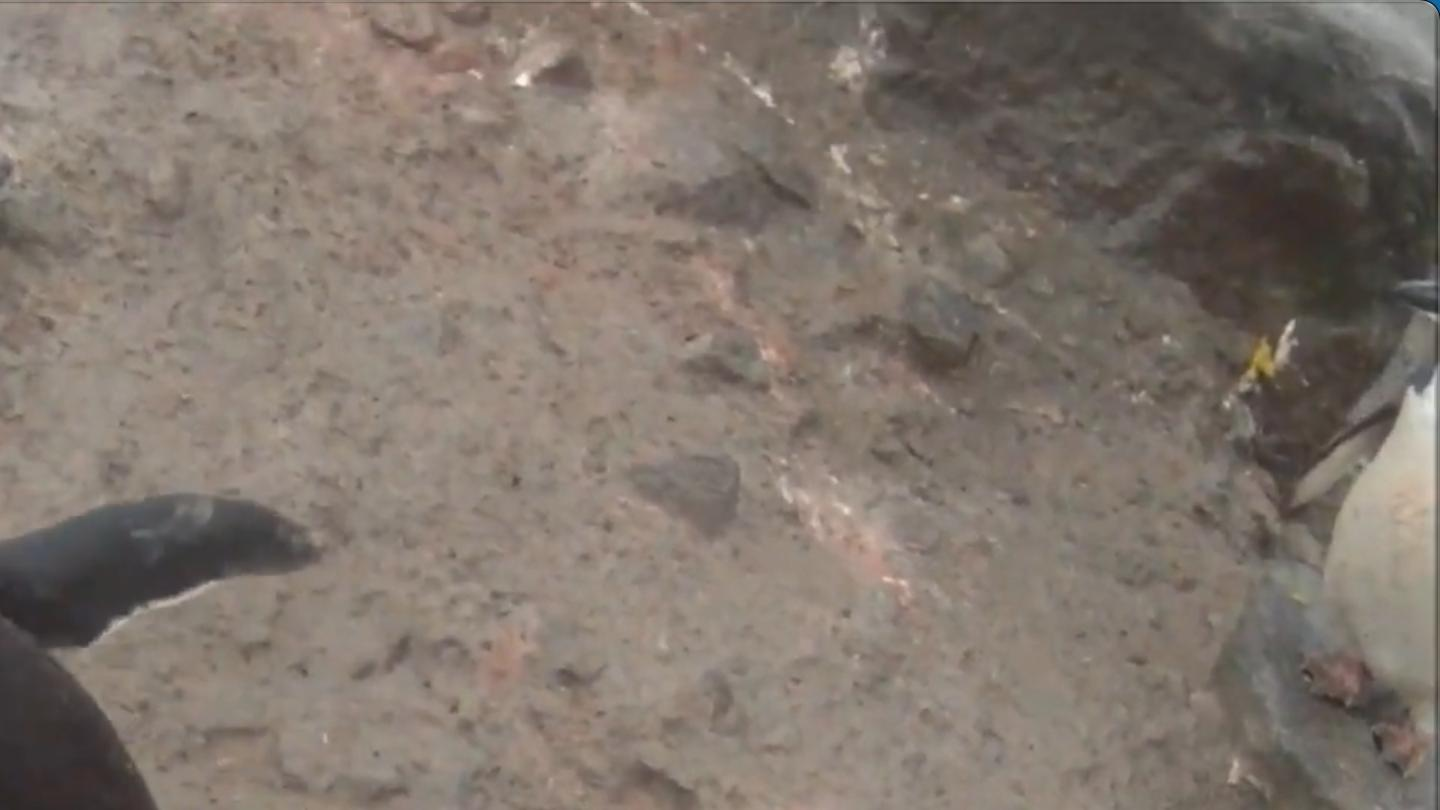Chinstrap Penguin: (0, 379, 506, 810)
